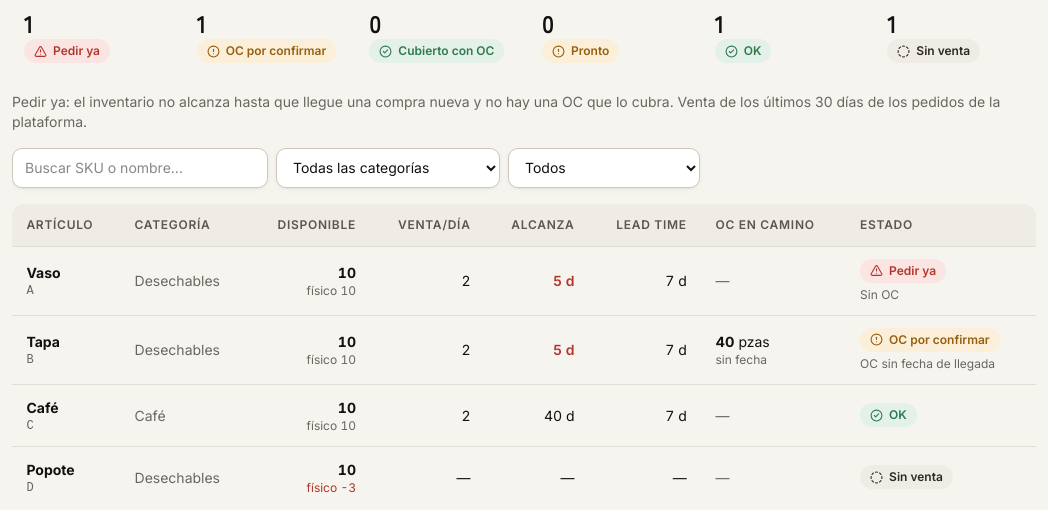
Test: DOH (port de renderComDoh/_dohFilas) › sin coincidencias muestra "Sin resultados"
Type "zzz" into the field labelled "Buscar" at (140, 168), box [12,148,268,188]
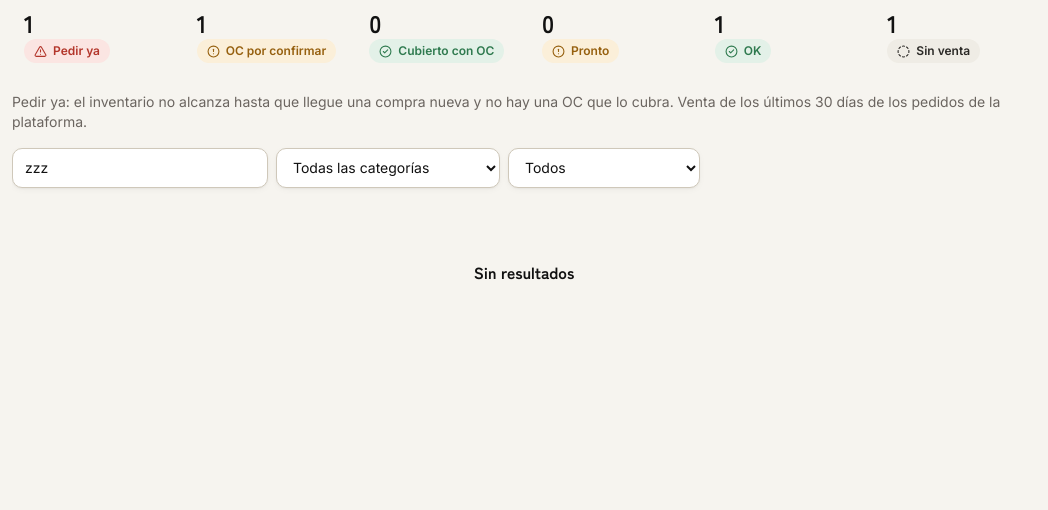
Now the text "Sin resultados" is shown, box [474,260,574,284]
